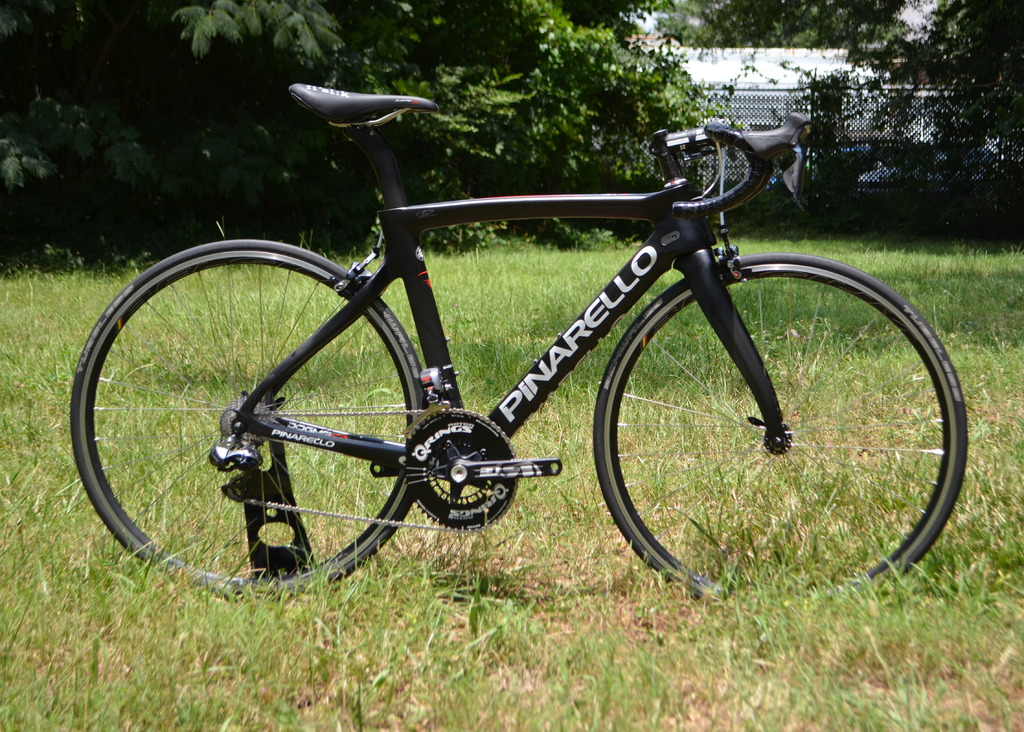Bike: (134, 69, 955, 587)
